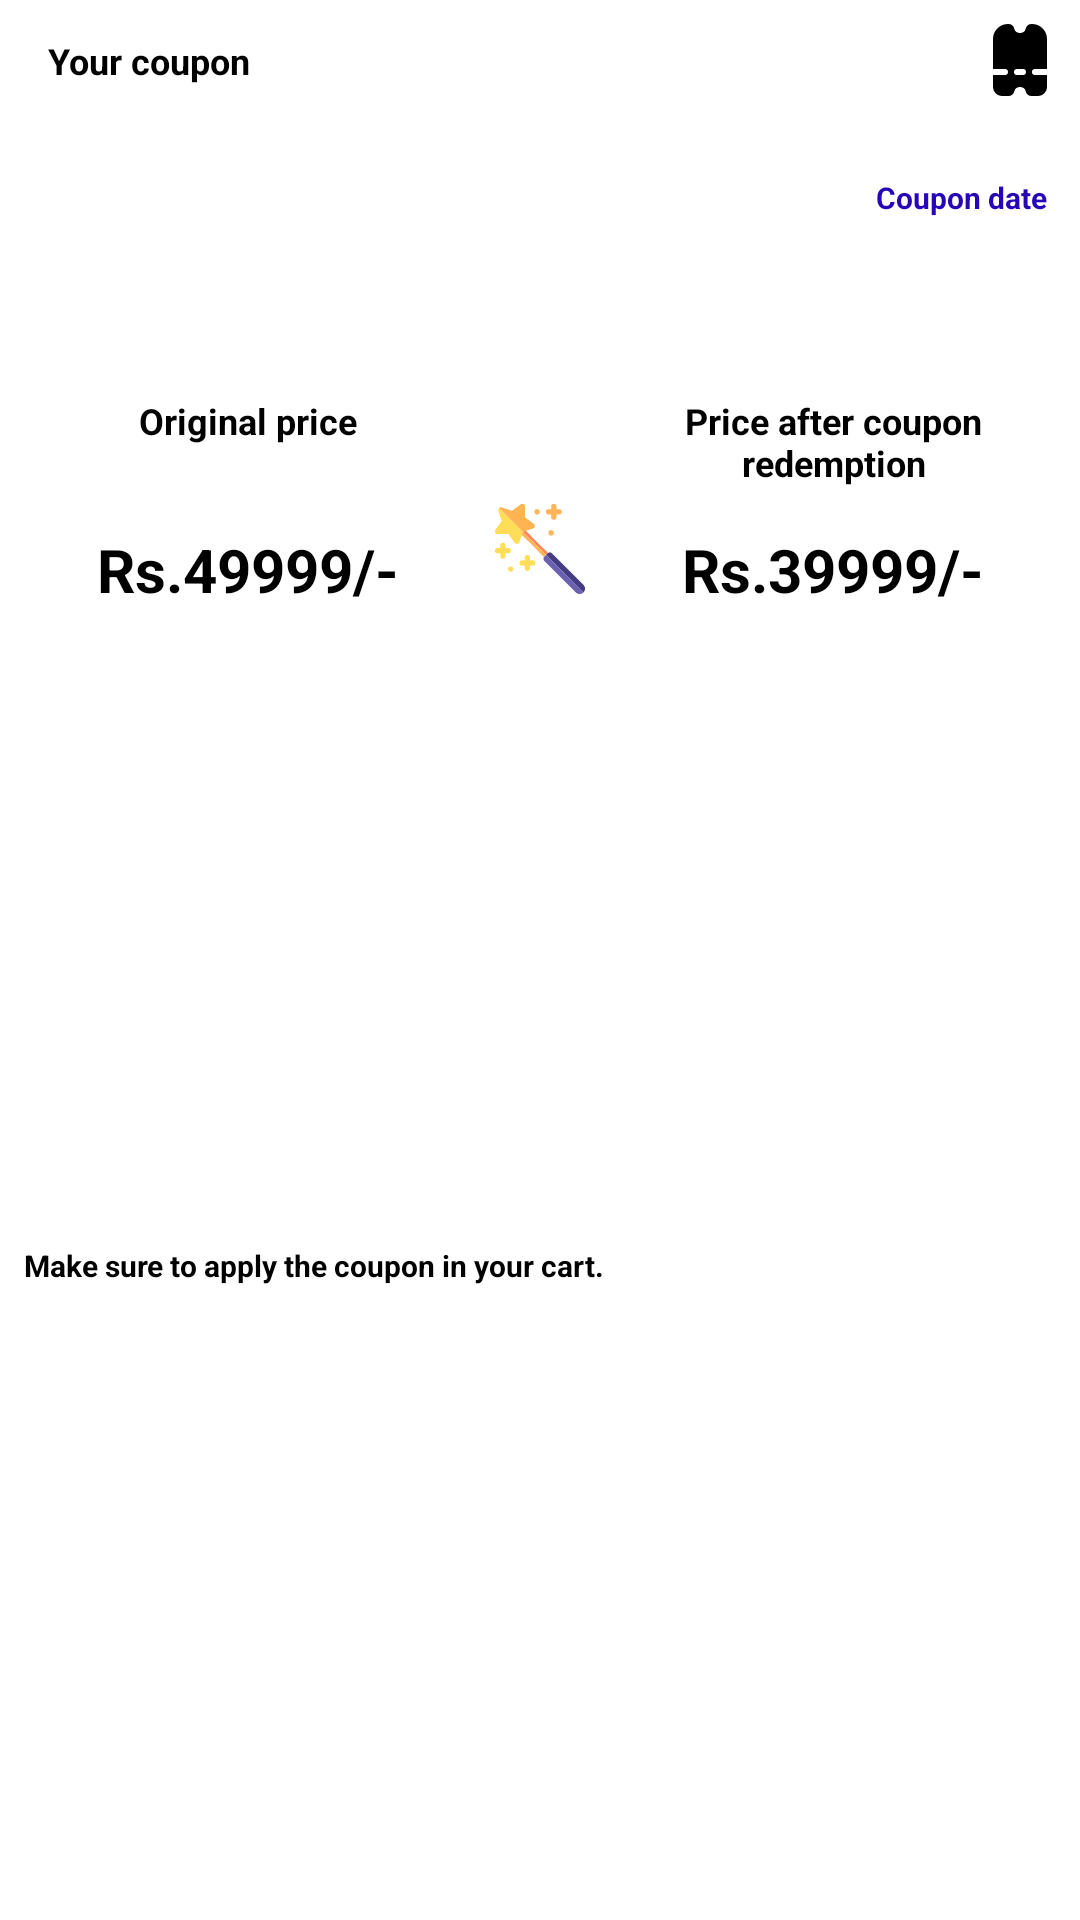

Icon click points for this 1080 x 1920 phone screenshot, format [x,y]:
magic wand: [540,549]
rewards: [1020,60]
